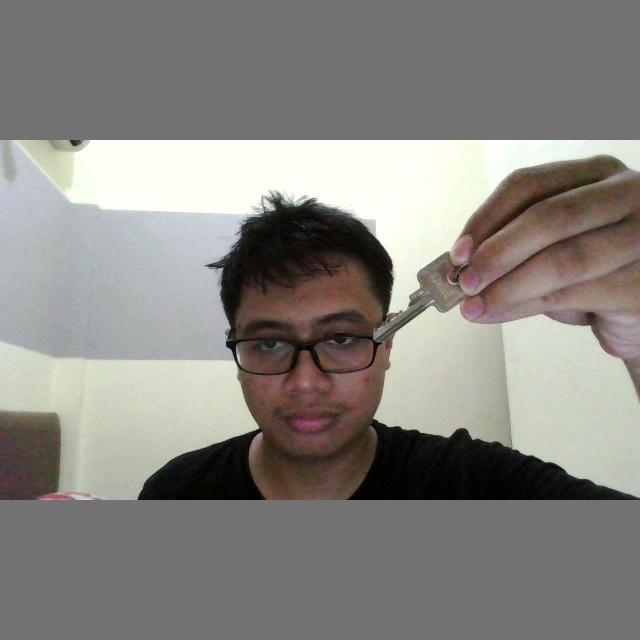Keys: (368, 240, 474, 348)
